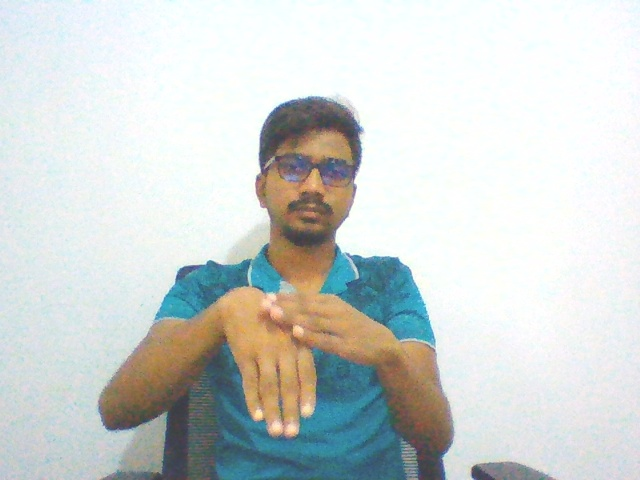pineapple: (213, 272, 396, 446)
